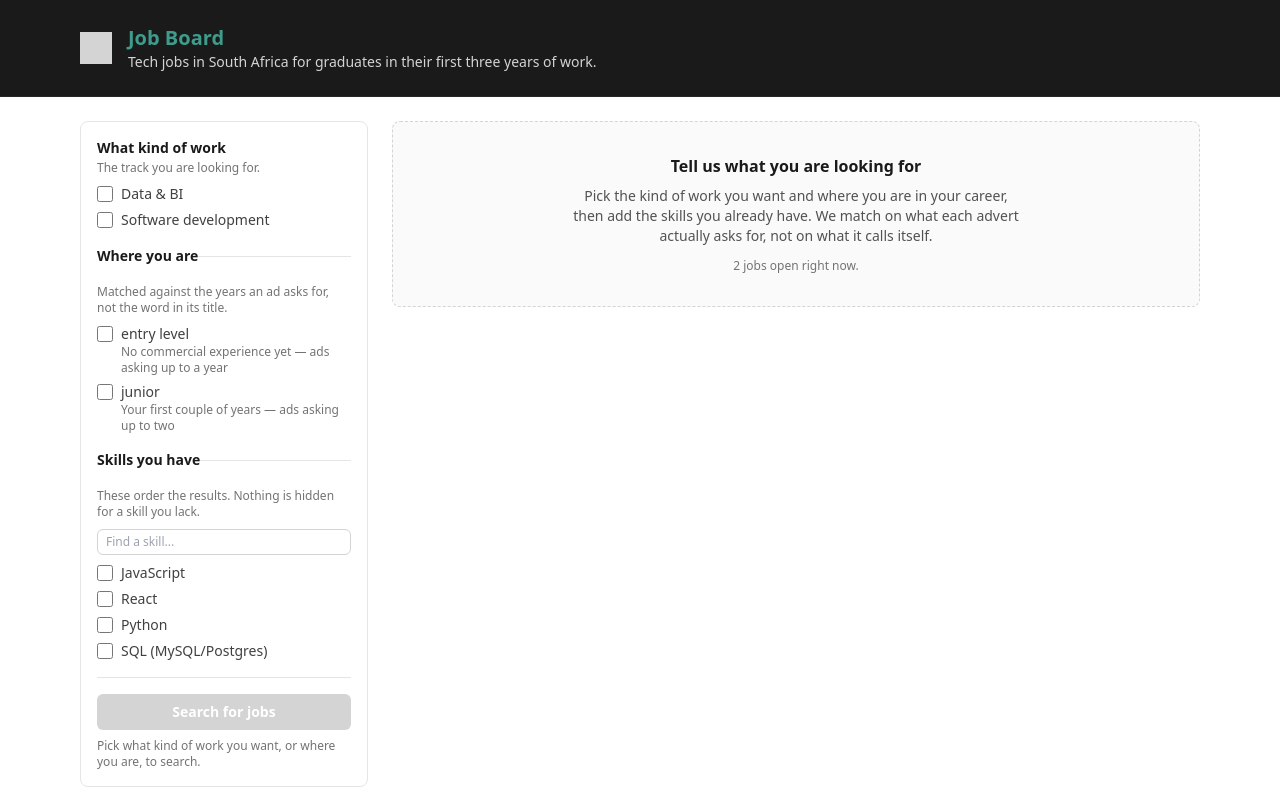
Test: App › warns when a job is only titled for the level and says nothing else
The image size is (1280, 800).
Expected: the text "2 jobs open right now." is shown, left=733, top=257, right=859, bottom=274
Click the checkbox labelled "Data & BI" at (105, 194), box left=97, top=186, right=113, bottom=202
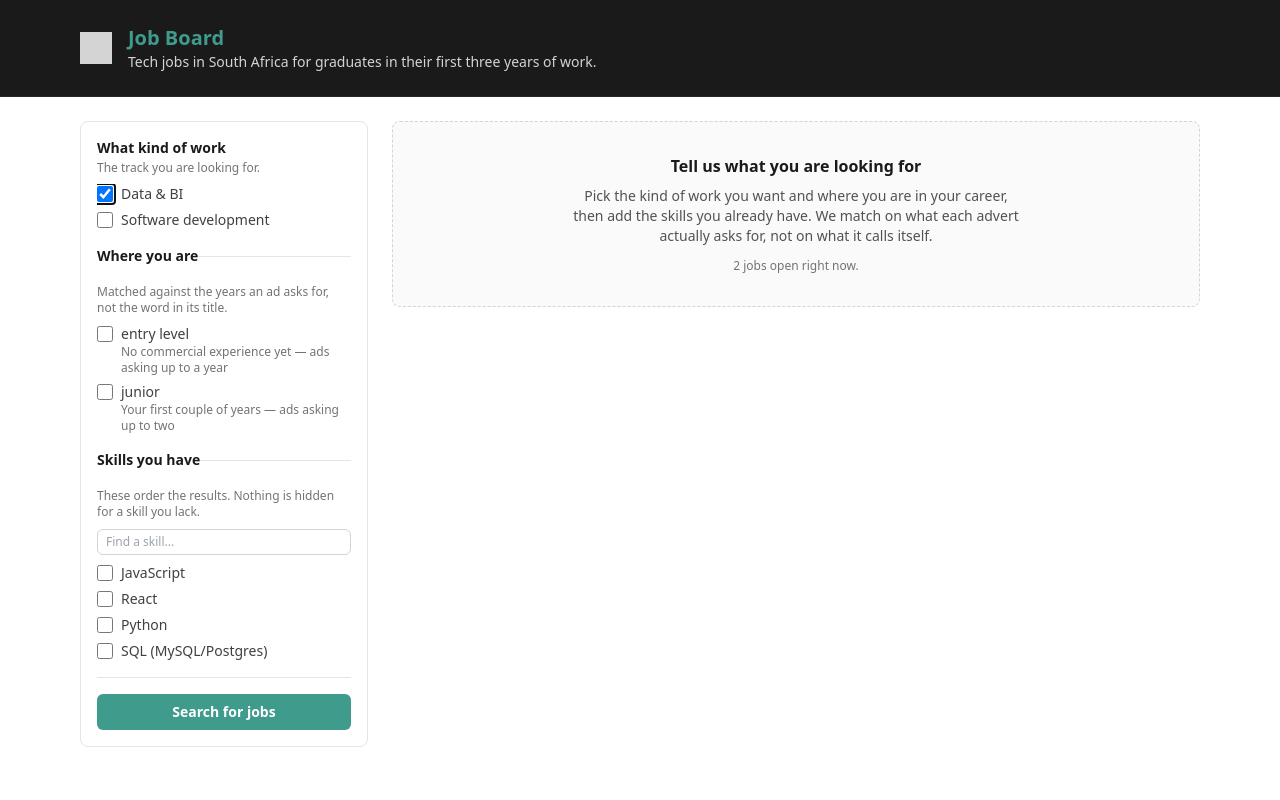
Click the button "Search for jobs" at (224, 712), box left=97, top=694, right=351, bottom=730
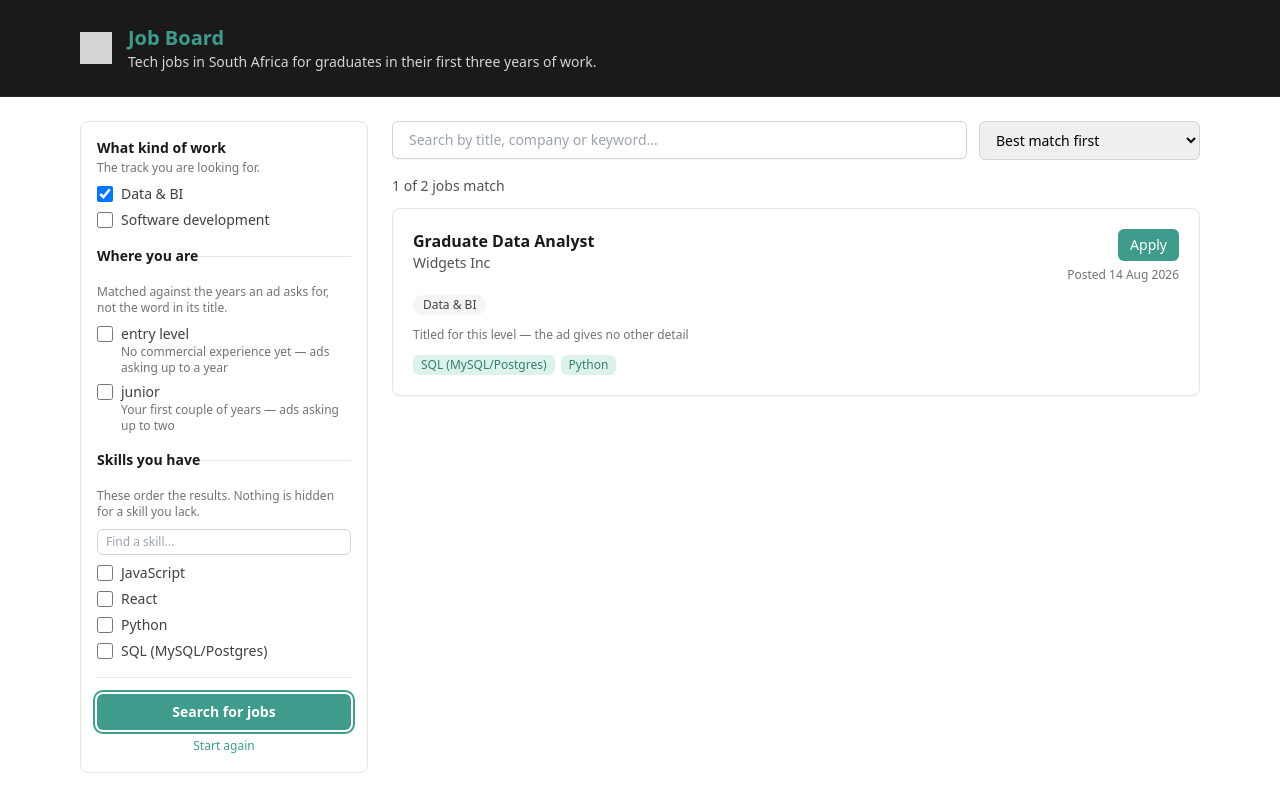
Expected: the text "Titled for this level — the ad gives no other detail" is shown, left=413, top=327, right=689, bottom=343
